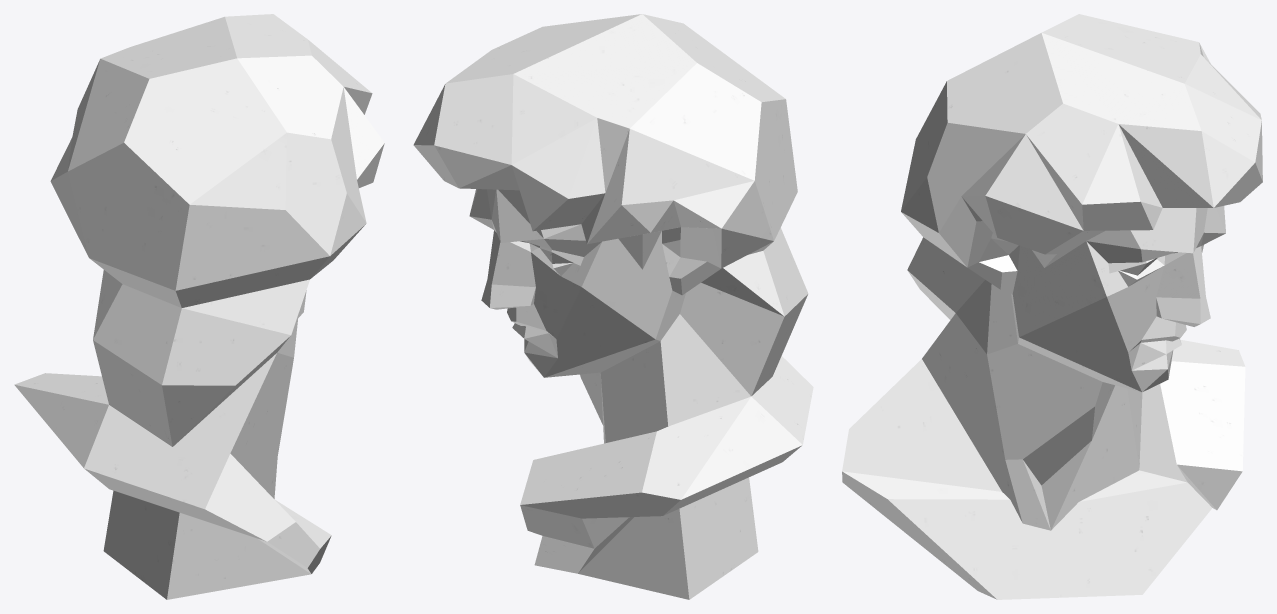
The model's file is 头部分面体_David_0328_opt.glb.
3 renders of one model, left to right at view 1: azimuth 30°, elevation 25°; view 2: azimuth 150°, elevation 25°; view 3: azimuth 270°, elevation 25°, orthographic. The views are drawn at different scales.
Visible parts, largest first — view 1: David_detailed_003Mesh_checker_0; view 2: David_detailed_003Mesh_checker_0; view 3: David_detailed_003Mesh_checker_0.
Part boxes in pixels (box(x1,y1,x2,y2)): David_detailed_003Mesh_checker_0: box(14, 14, 384, 599); David_detailed_003Mesh_checker_0: box(413, 14, 813, 599); David_detailed_003Mesh_checker_0: box(842, 14, 1262, 599).
Bounding box in the file's own units: 0.2921 × 0.458 × 0.3264.
Materials: 1 (1 with a texture image).
